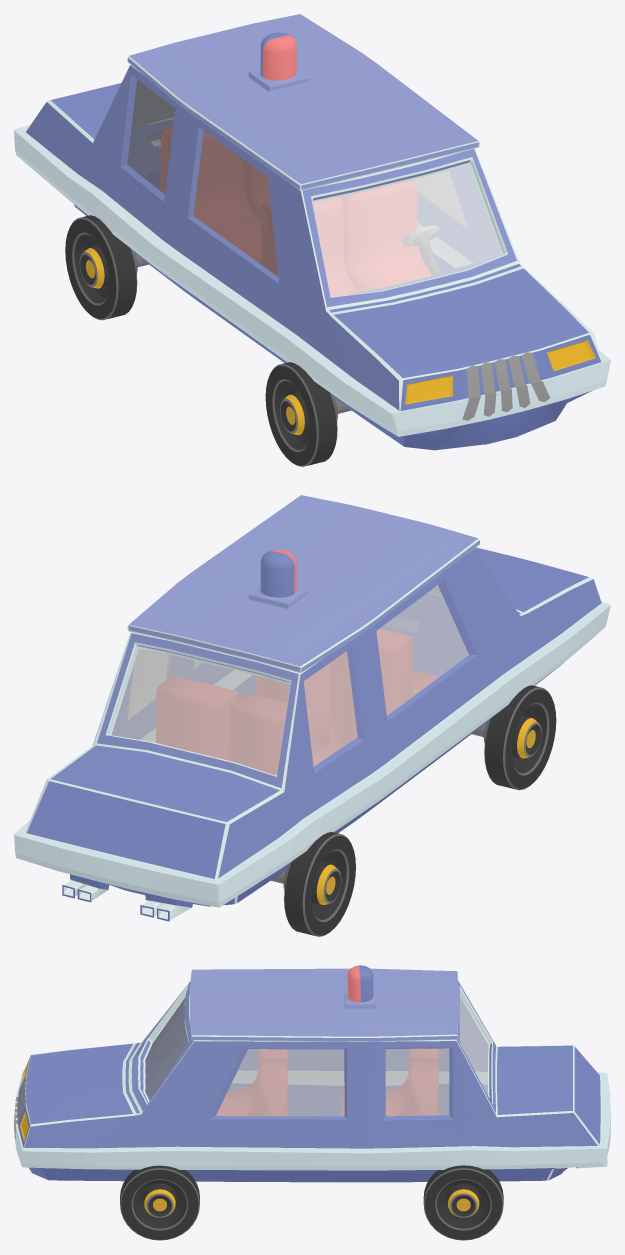
Rendered from Polizei1.glb.
3 views of the same model, one above another, from view 1: azimuth 30°, elevation 25°; view 2: azimuth 150°, elevation 25°; view 3: azimuth 270°, elevation 25° (orthographic). The views are drawn at different scales.
Visible parts, largest first — view 1: Polizeiauto, Räder; view 2: Polizeiauto, Räder; view 3: Polizeiauto, Räder.
Boxes of the visible parts, x1,y1,x2,y2 form: Polizeiauto: [14, 14, 610, 450]; Räder: [65, 215, 351, 466]; Polizeiauto: [14, 495, 610, 921]; Räder: [271, 685, 556, 936]; Polizeiauto: [14, 965, 610, 1182]; Räder: [120, 1165, 503, 1240].
Size of the model in its own units: 3.16 by 3.7 by 8.78.
5 materials, 4 textured.
